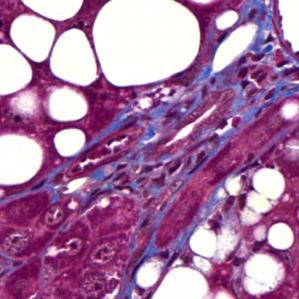steatosis: (53, 31, 100, 87), (9, 17, 59, 63), (49, 91, 90, 121), (53, 126, 90, 158)
